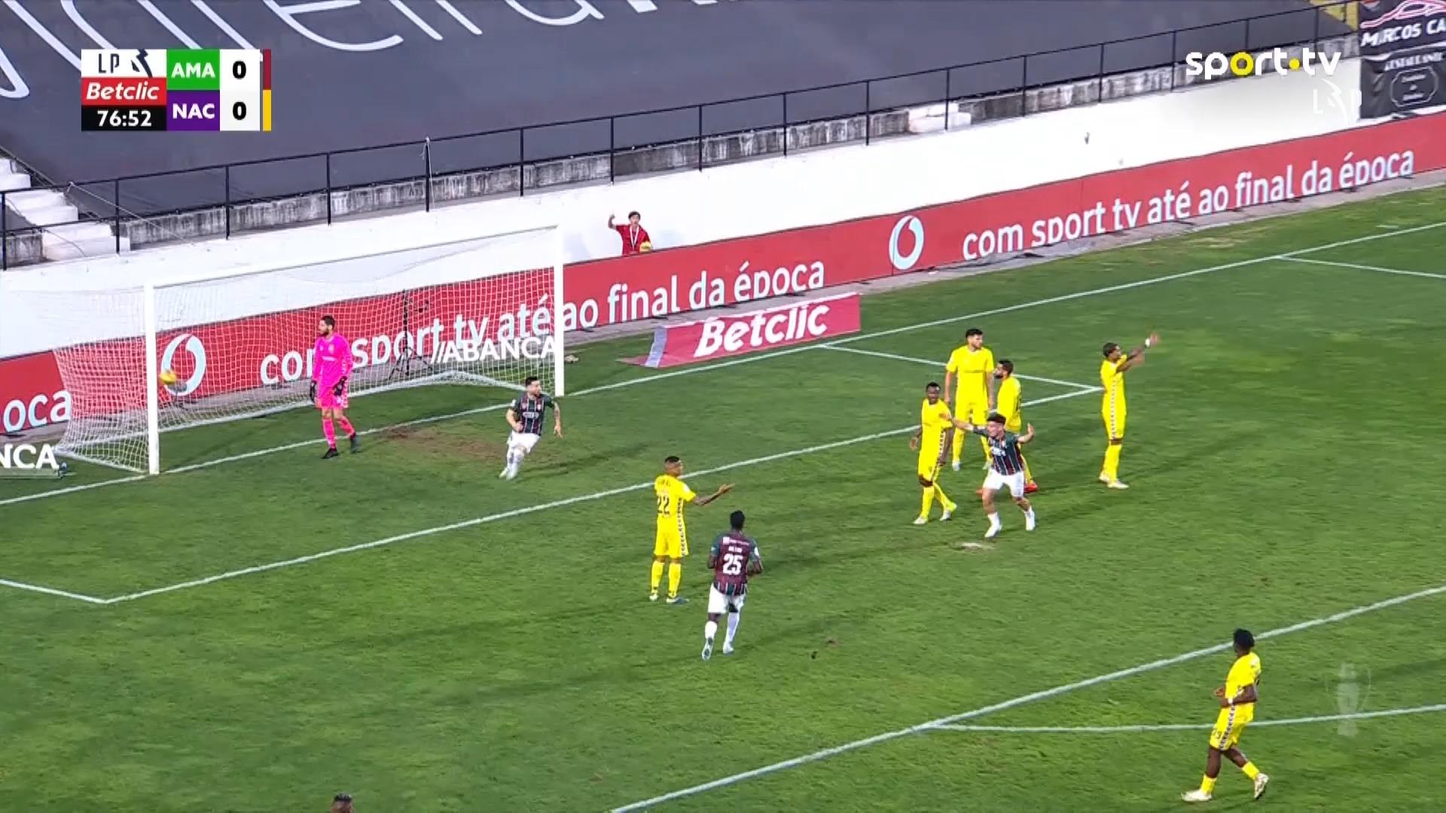ball: (158, 370, 177, 384)
goalkeeper: (307, 314, 359, 459)
player: (1180, 627, 1270, 802), (647, 454, 734, 604), (946, 410, 1038, 539), (1097, 330, 1160, 489), (700, 509, 763, 660), (942, 327, 996, 472), (908, 381, 961, 525), (497, 375, 563, 481), (990, 358, 1036, 493)
